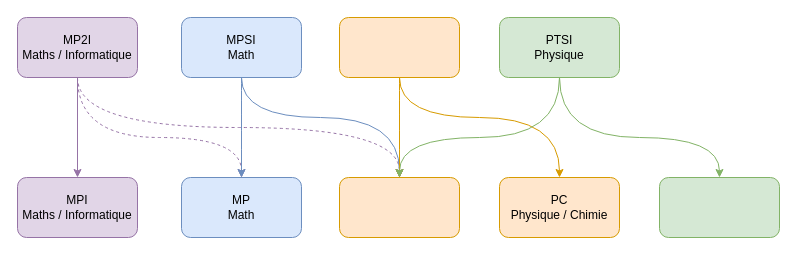
This 797x255 diagram has some shape labels left out. The centre of each missing label's shape, as x and y in pixels:
"PCSI S.I" goes at (x=399, y=47).
"PSI Physique / S.I" goes at (x=399, y=207).
"PT Physique / S.I" goes at (x=719, y=207).
